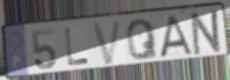5: (30, 27, 57, 72)
A: (159, 14, 194, 60)
L: (63, 27, 91, 68)
N: (190, 8, 224, 57)
Q: (125, 17, 160, 62)
V: (90, 18, 125, 67)
